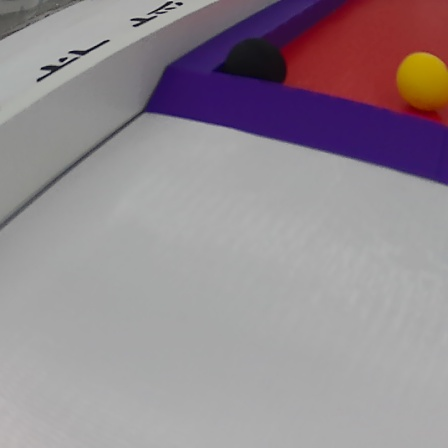black: (222, 39, 292, 91)
red_aim: (146, 0, 448, 192)
yellow: (395, 50, 448, 120)
